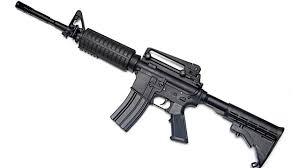rifle: (16, 1, 285, 168)
